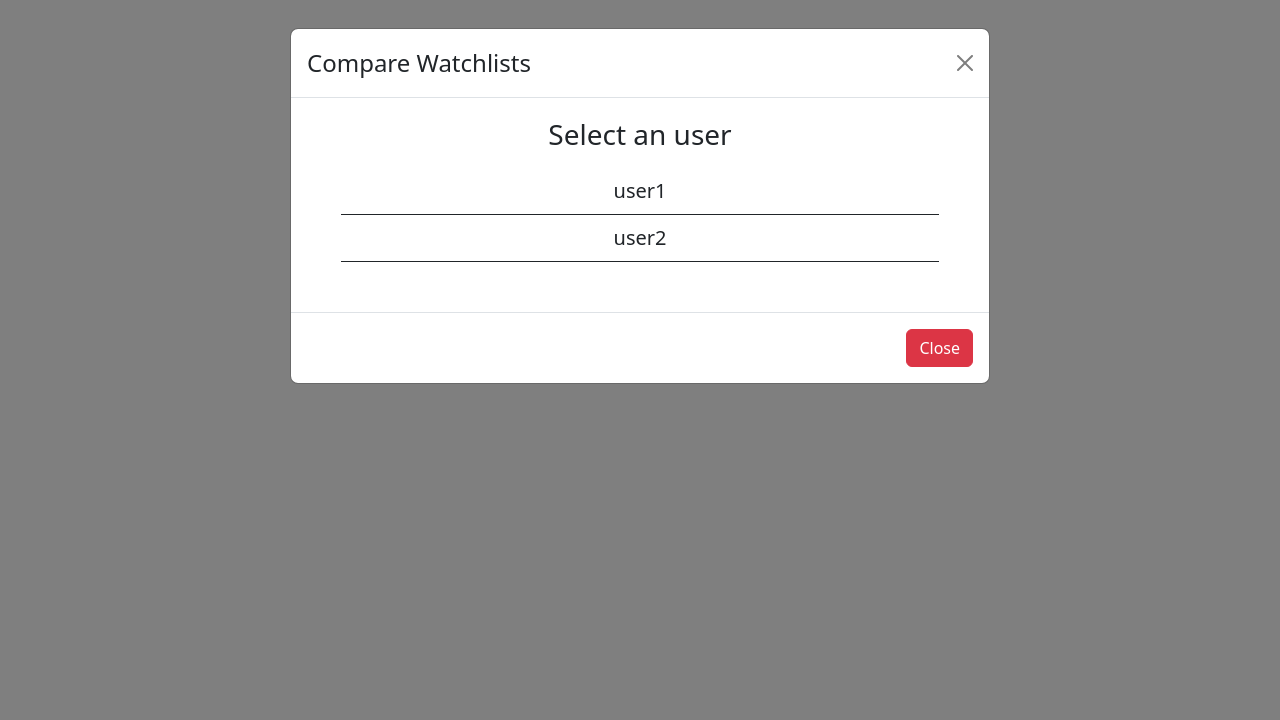
Test: Compare Watchlist Modal › shows movies for a watchlist when an watchlist is selected
Click the button "user1" at coordinates (640, 191), box [341,168,939,215]
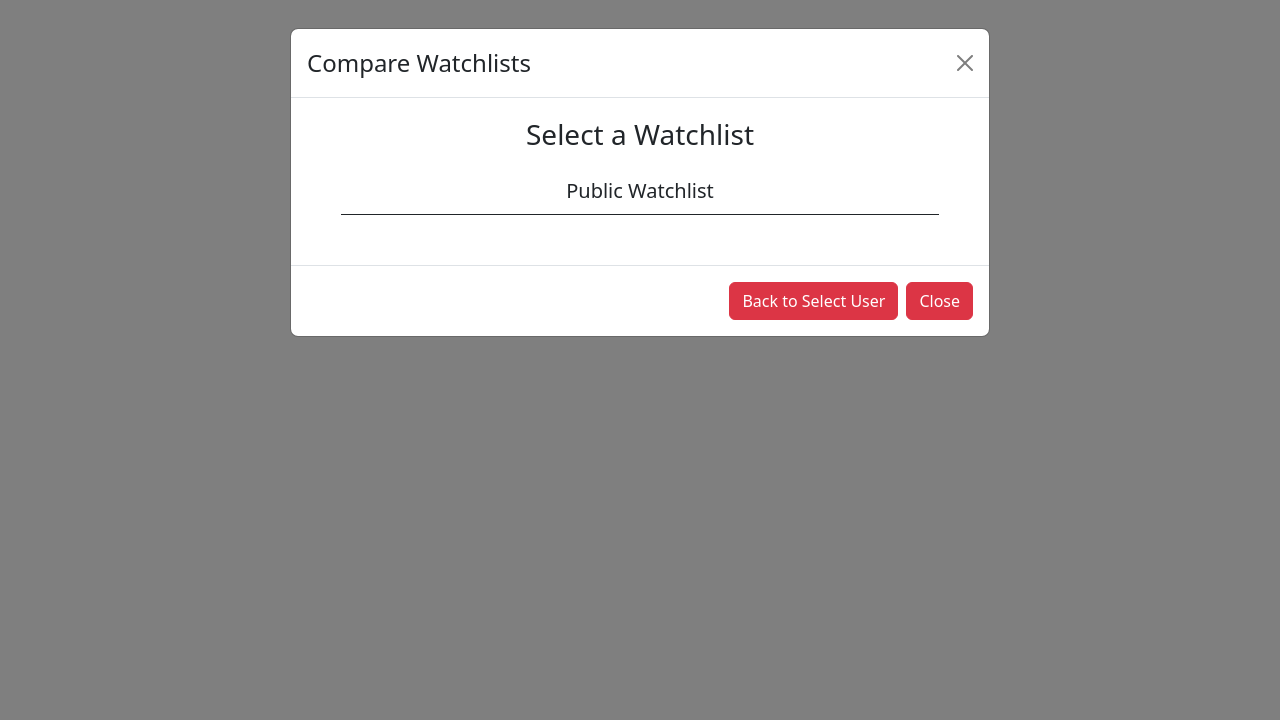
Click the button "Public Watchlist" at coordinates (640, 191), box [341,168,939,215]
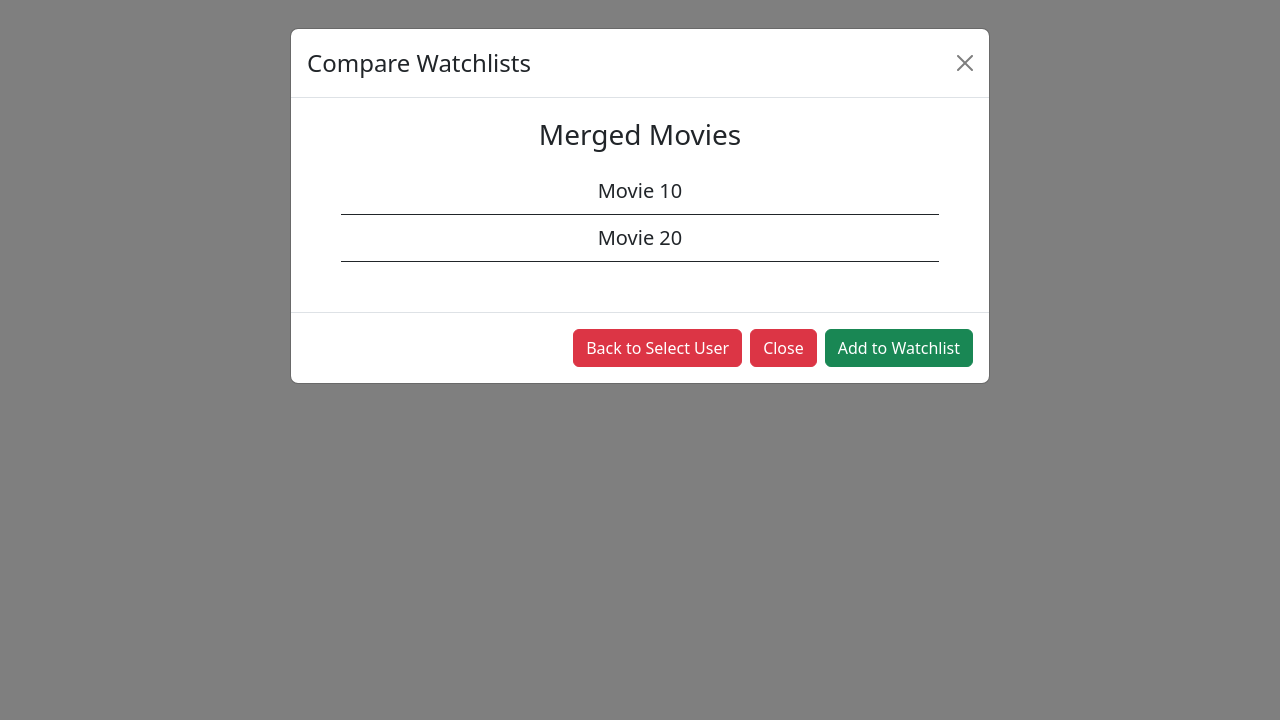
Expected: the heading "Merged Movies" is shown, [539,115,741,153]
